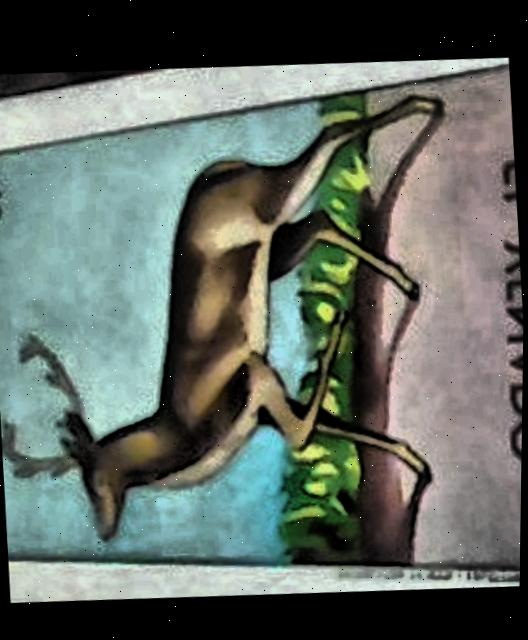El Venado: (0, 62, 524, 569)
